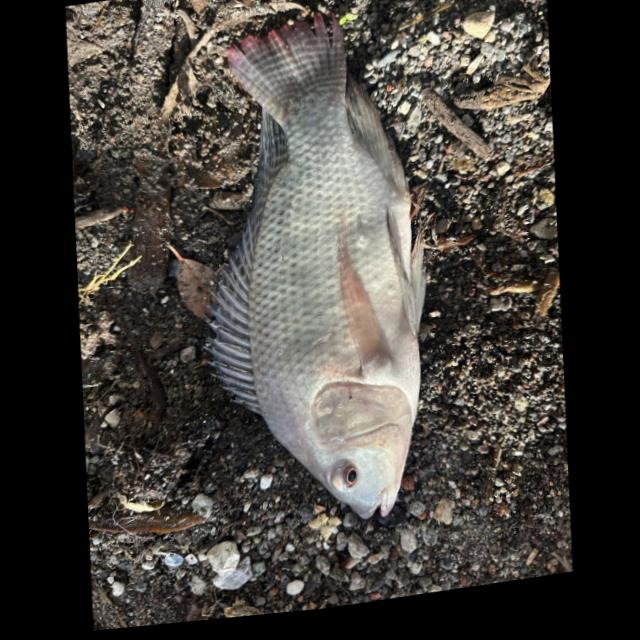Tilapia: (186, 3, 439, 544)
